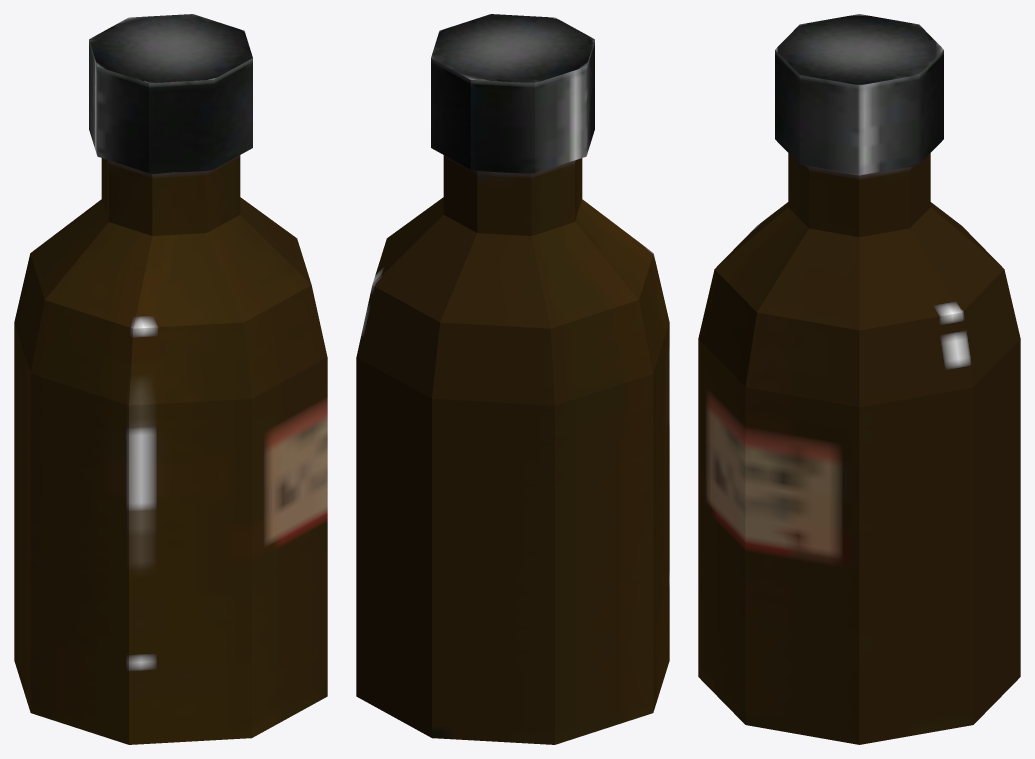
Rendered from jar_6.fbx.
3 views of the same model, side by side, from view 1: azimuth 30°, elevation 25°; view 2: azimuth 150°, elevation 25°; view 3: azimuth 270°, elevation 25° (orthographic).
Parts seen in each view (by area): view 1: mesh_0; view 2: mesh_0; view 3: mesh_0.
Part boxes in pixels (box(x1,y1,x2,y2)): mesh_0: box(14, 14, 327, 744); mesh_0: box(356, 14, 669, 744); mesh_0: box(698, 14, 1020, 744).
Bounding box in the file's own units: 7.6 × 16.3 × 7.6.
1 material, 1 textured.
